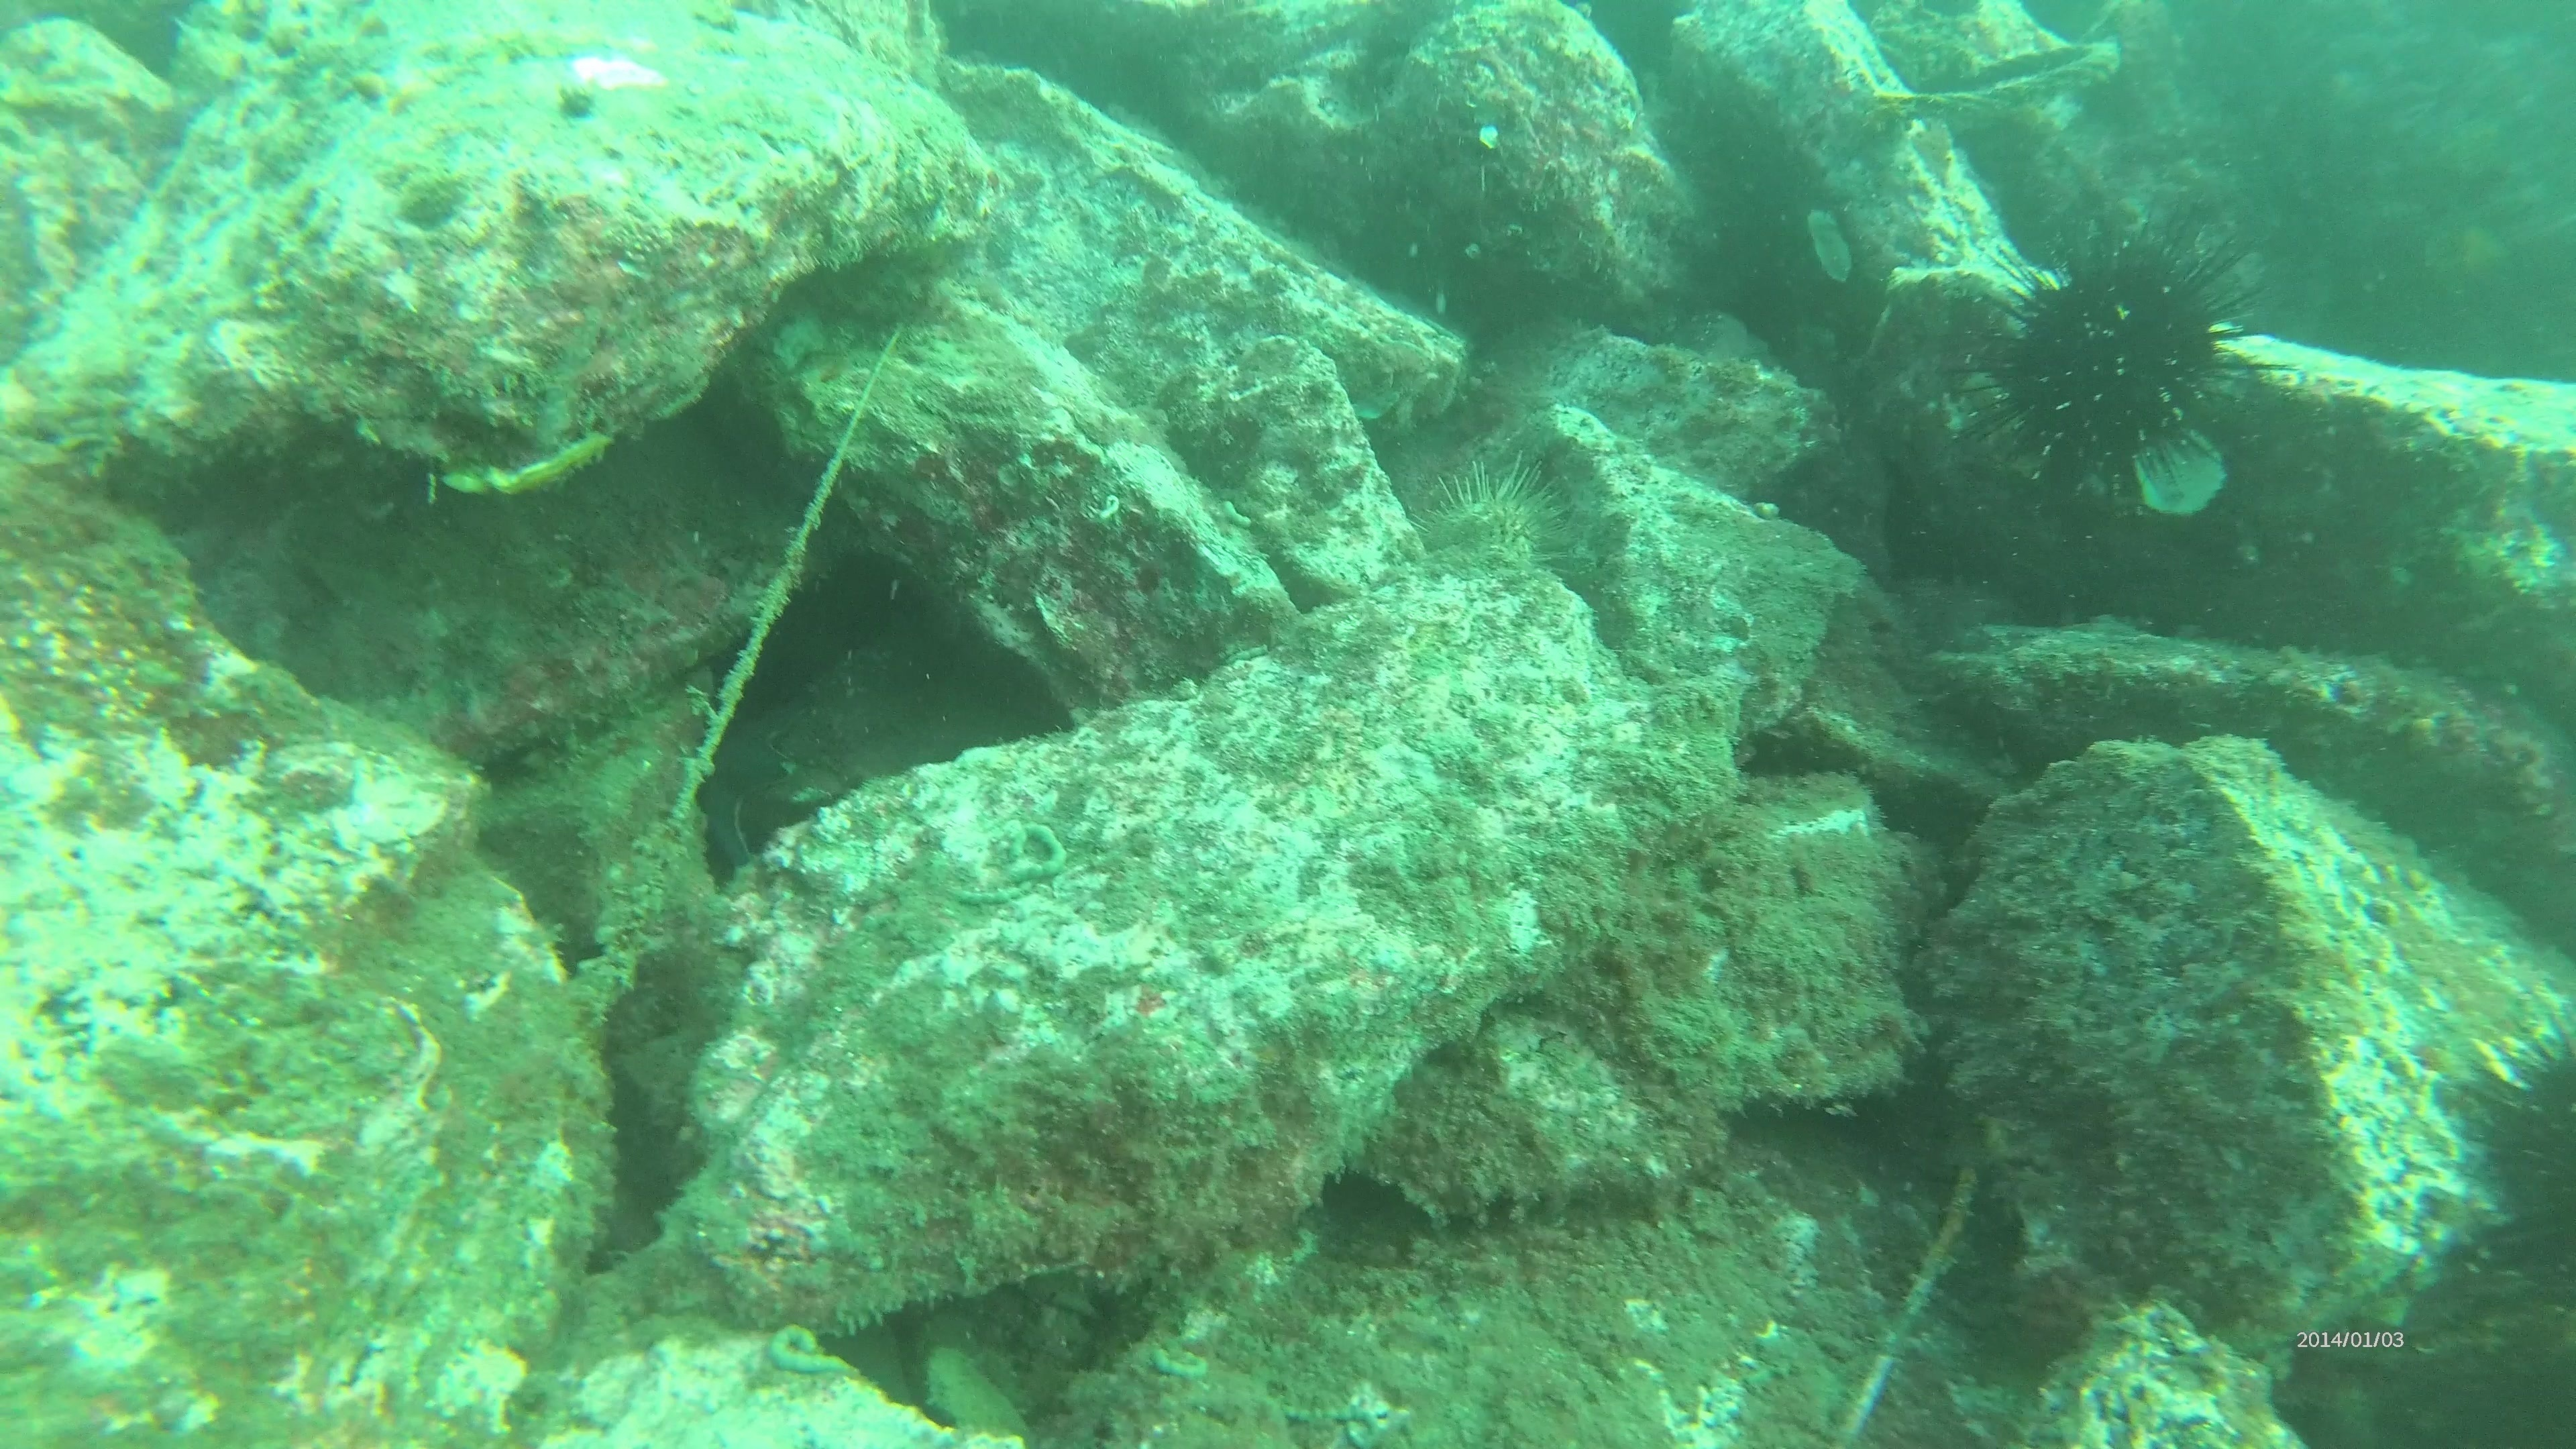echinus: (1976, 221, 2258, 495), (2456, 1019, 2576, 1277), (1405, 458, 1573, 591)
starfish: (665, 694, 823, 881)
